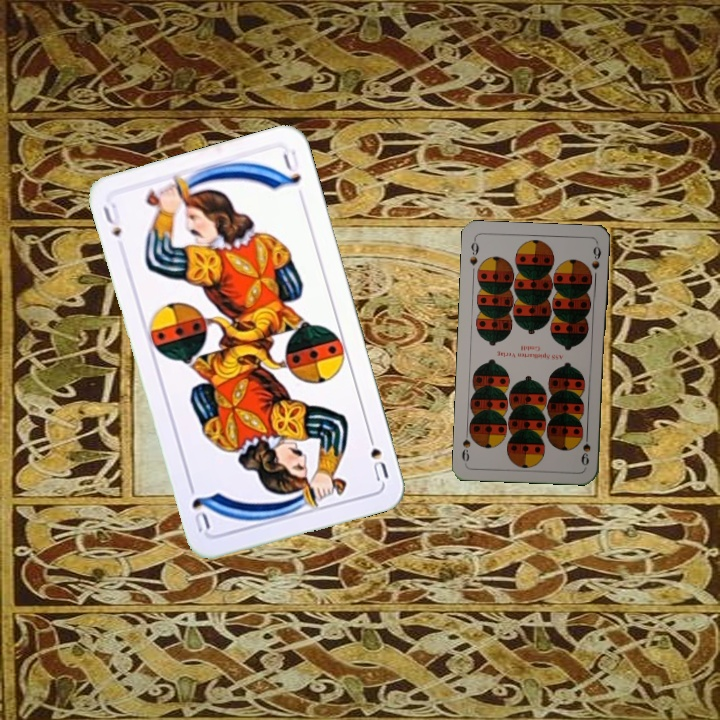S9: (577, 428, 593, 468), (466, 235, 481, 268)
SU: (363, 427, 391, 484), (98, 199, 124, 240)
